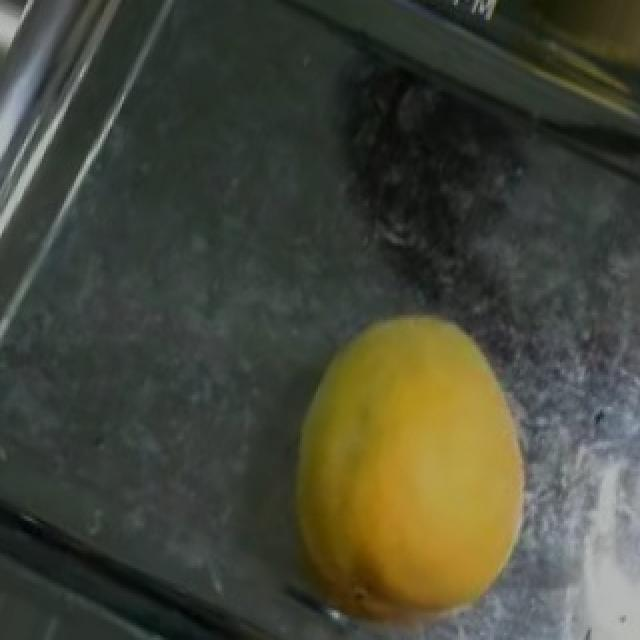fruit: (252, 268, 584, 640), (480, 0, 640, 122)
